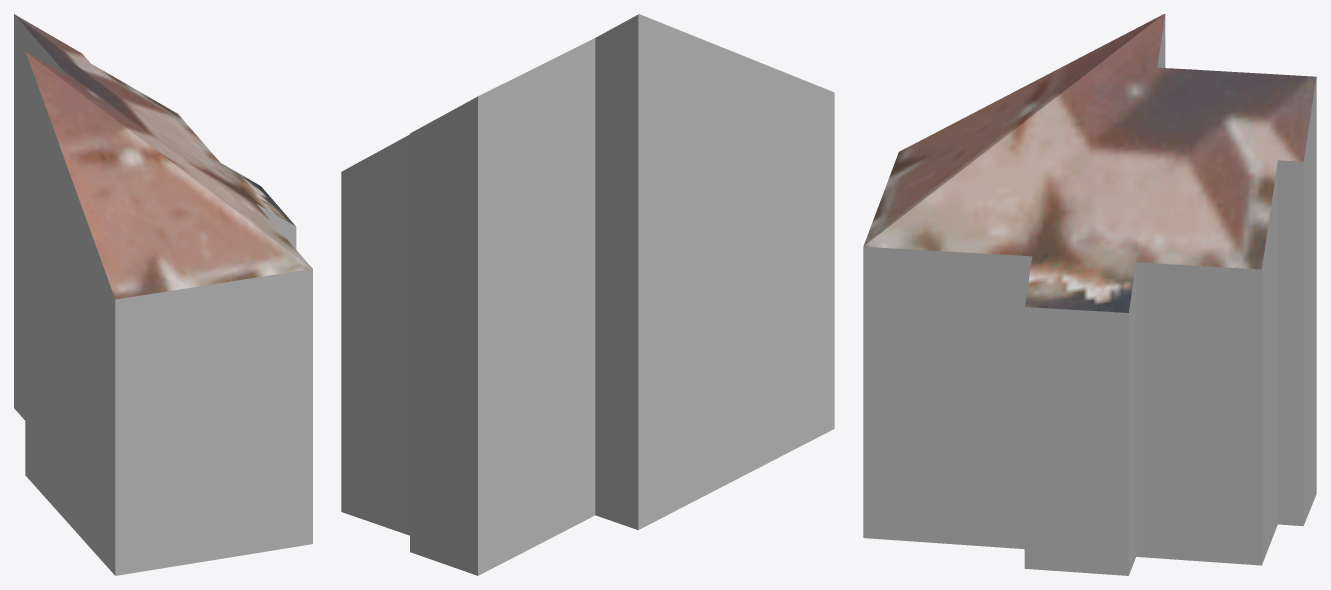
Rendered from DEBW_0010007TxaN.gltf.
3 views of the same model, side by side, from view 1: azimuth 30°, elevation 25°; view 2: azimuth 150°, elevation 25°; view 3: azimuth 270°, elevation 25° (orthographic). The views are drawn at different scales.
Parts seen in each view (by area): view 1: Z_UP; view 2: Z_UP; view 3: Z_UP.
Part boxes in pixels (x1,y1,x2,y2): Z_UP: [14, 14, 312, 575]; Z_UP: [341, 14, 834, 575]; Z_UP: [863, 14, 1316, 575].
Size of the model in its own units: 13.41 by 21.37 by 19.55.
Materials: 2 (1 with a texture image).
